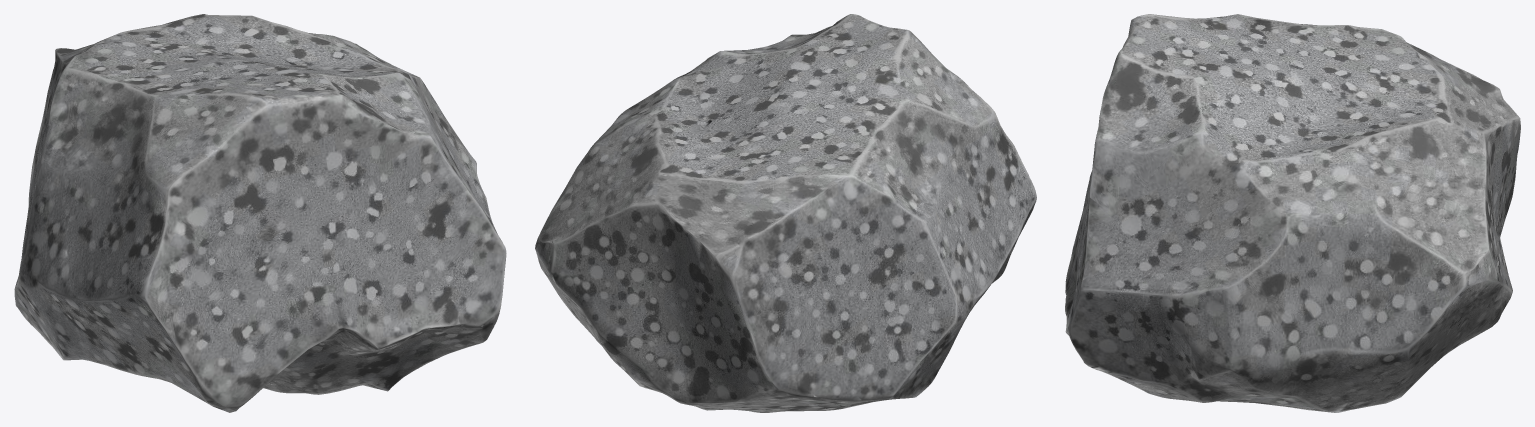
File: rock-2.glb
3 renders of one model, left to right at view 1: azimuth 30°, elevation 25°; view 2: azimuth 150°, elevation 25°; view 3: azimuth 270°, elevation 25°, orthographic. The views are drawn at different scales.
Parts seen in each view (by area): view 1: Mesh_0; view 2: Mesh_0; view 3: Mesh_0.
Boxes of the visible parts, <box> form: Mesh_0: <box>14,14,506,412</box>; Mesh_0: <box>535,14,1036,412</box>; Mesh_0: <box>1065,14,1520,412</box>.
Size of the model in its own units: 2 by 1.55 by 1.99.
1 material, 1 textured.
